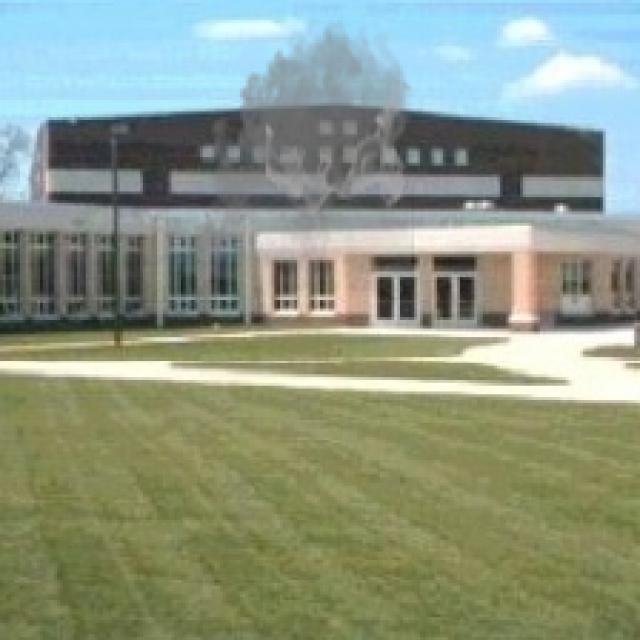smoke: (197, 8, 414, 292)
